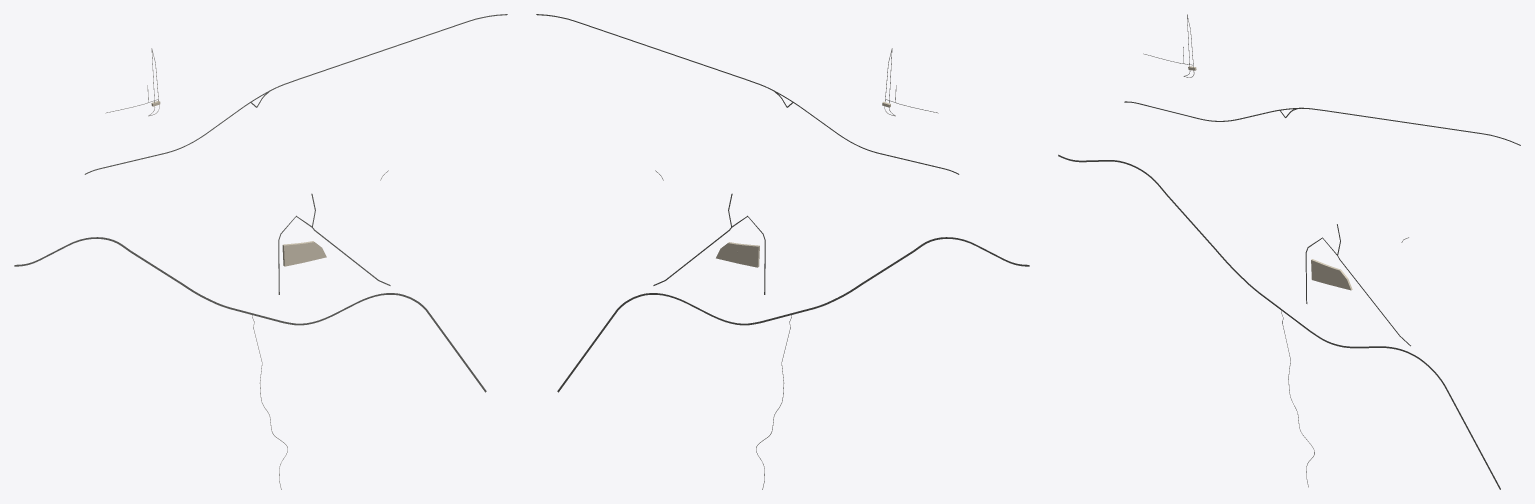
File: historic-palestine-08_25_3498_3191.glb
The picture shows the model from 3 angles, left to right: view 1: azimuth 30°, elevation 25°; view 2: azimuth 150°, elevation 25°; view 3: azimuth 330°, elevation 25°; orthographic projection. The views are drawn at different scales.
Visible parts, largest first — view 1: Road עמק זבולון, Building_.001, Road .008; view 2: Road עמק זבולון, Building_.001, Road .008; view 3: Road עמק זבולון, Building_.001, Road .008.
Boxes of the visible parts, bbox=[...] form: Road עמק זבולון: bbox=[14, 237, 486, 392]; Building_.001: bbox=[282, 241, 326, 266]; Road .008: bbox=[84, 14, 507, 174]; Road עמק זבולון: bbox=[557, 237, 1029, 392]; Building_.001: bbox=[716, 242, 759, 267]; Road .008: bbox=[536, 14, 959, 174]; Road עמק זבולון: bbox=[1058, 154, 1500, 489]; Building_.001: bbox=[1311, 259, 1352, 290]; Road .008: bbox=[1124, 101, 1520, 145].
Bounding box in the file's own units: 1496 × 1372 × 8.7.
